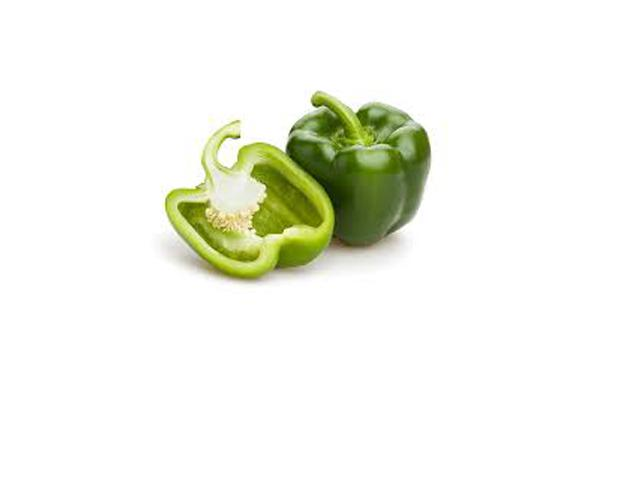bell_pepper: (155, 112, 339, 273)
